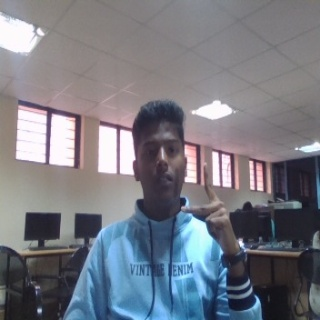Okay: (178, 162, 237, 251)
